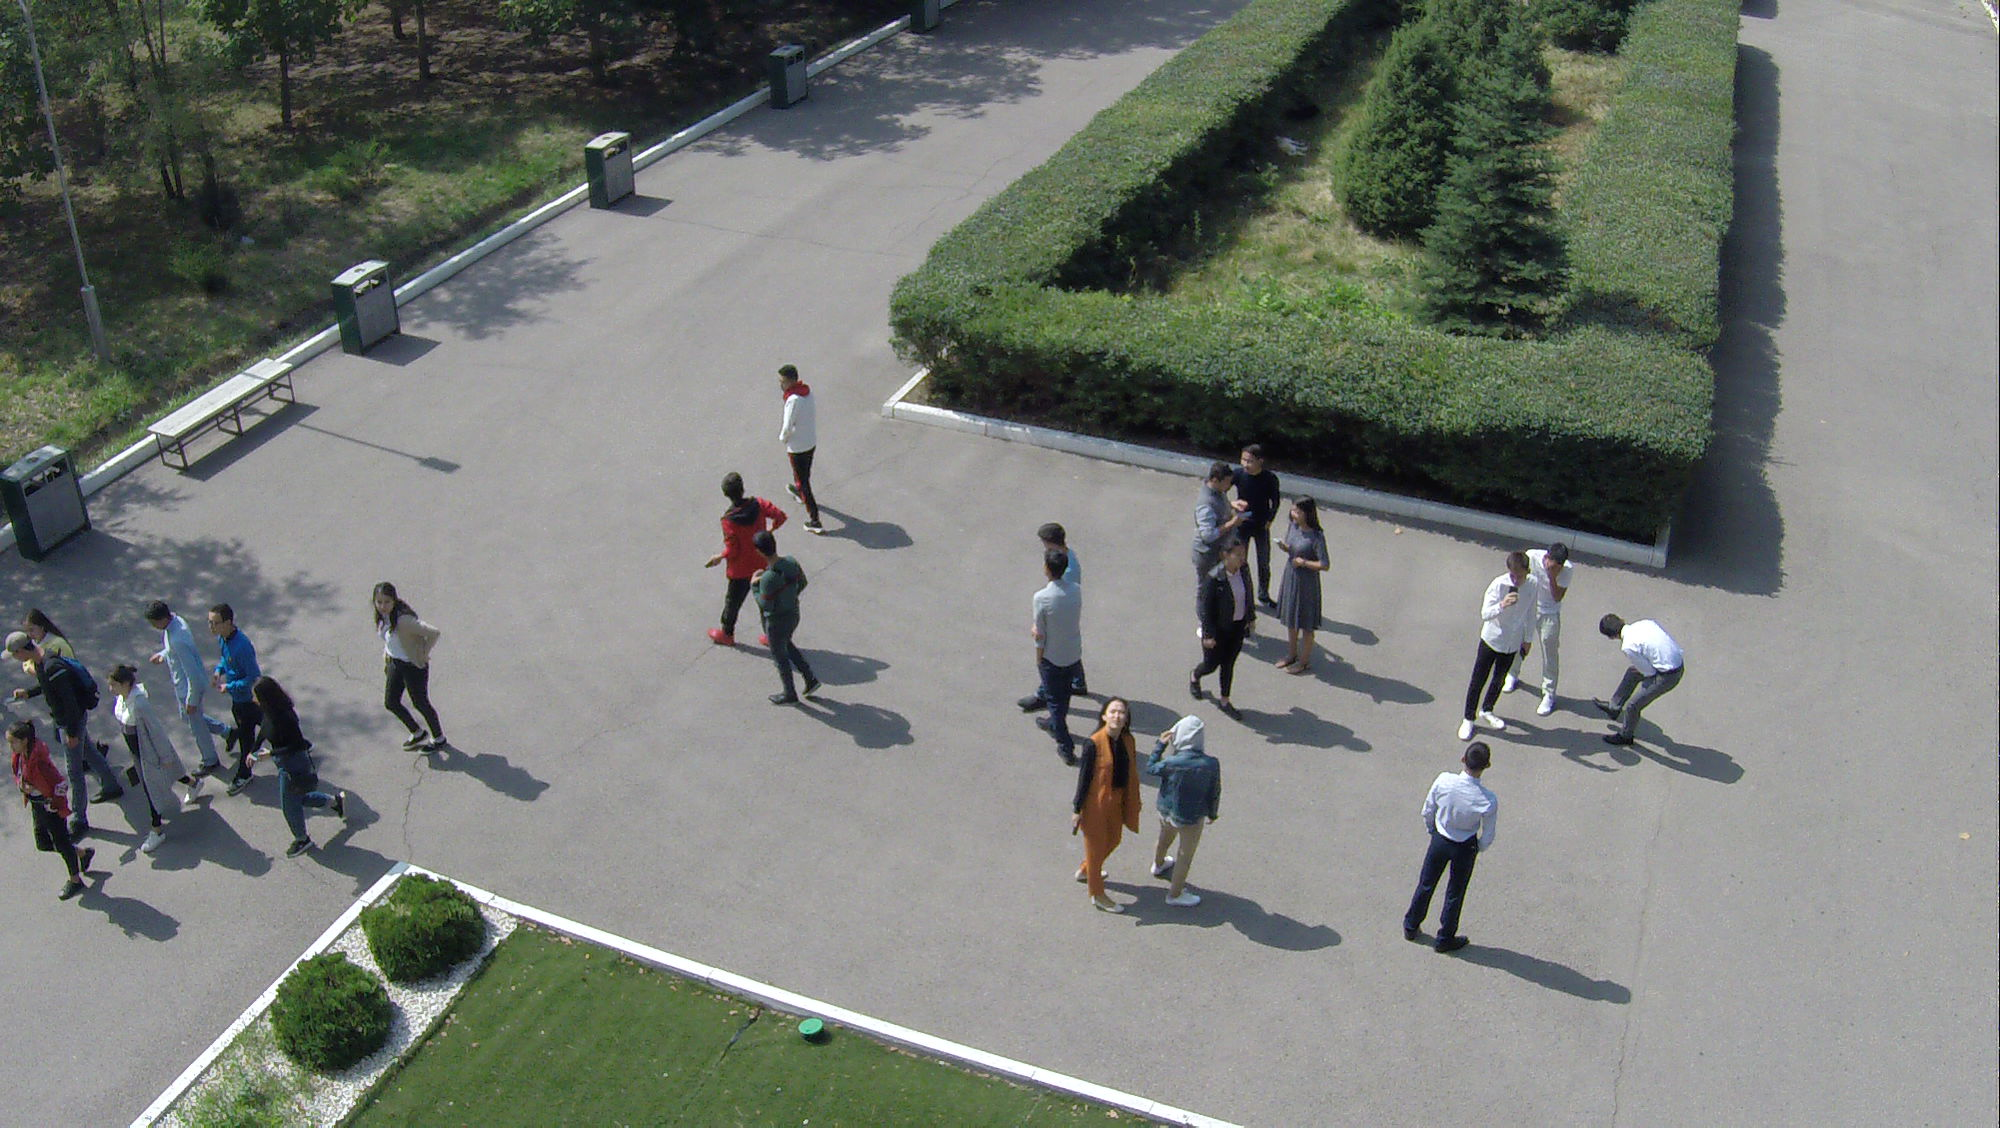person: (699, 451, 801, 670), (1057, 695, 1151, 920), (97, 666, 207, 849), (3, 610, 85, 853), (197, 610, 297, 803), (1007, 553, 1095, 762), (1414, 739, 1485, 972), (1, 726, 91, 905), (1597, 603, 1689, 778), (1143, 716, 1220, 918), (253, 649, 322, 868), (1468, 549, 1537, 758), (1512, 541, 1589, 716), (135, 614, 222, 766), (745, 537, 820, 712), (764, 358, 837, 539), (374, 570, 439, 768), (1187, 549, 1260, 724), (1272, 495, 1324, 672), (1235, 462, 1285, 610), (1176, 449, 1232, 570)
